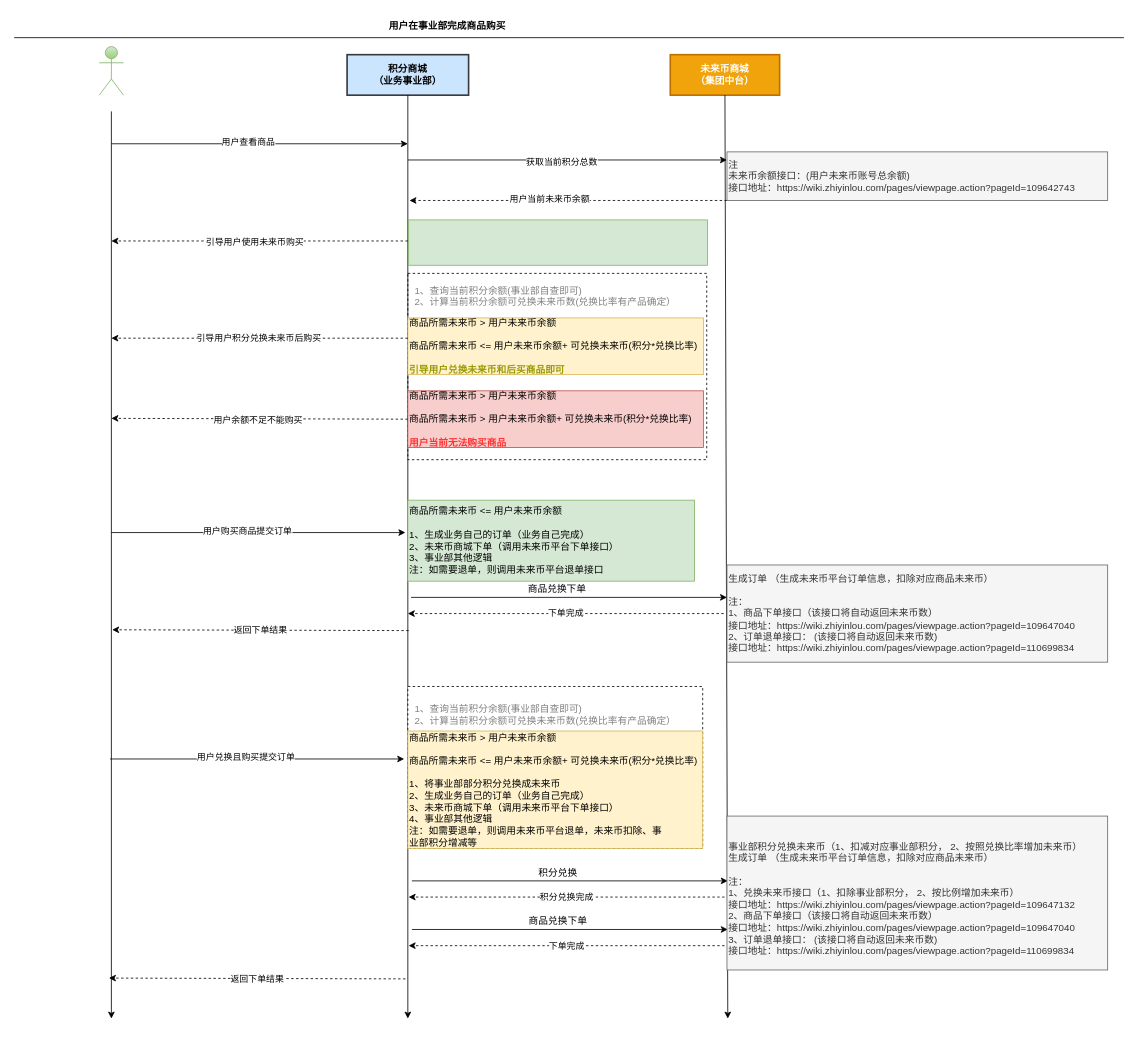
Some shapes in this 1139 by 1039 pixel diagram are drawn without their labels. Each missing label, with the centre of its shape:
商品所需未来币 <= 用户未来币余额 直接引导用户购买商品即可: the point at 558,242
用户: the point at 111,70
